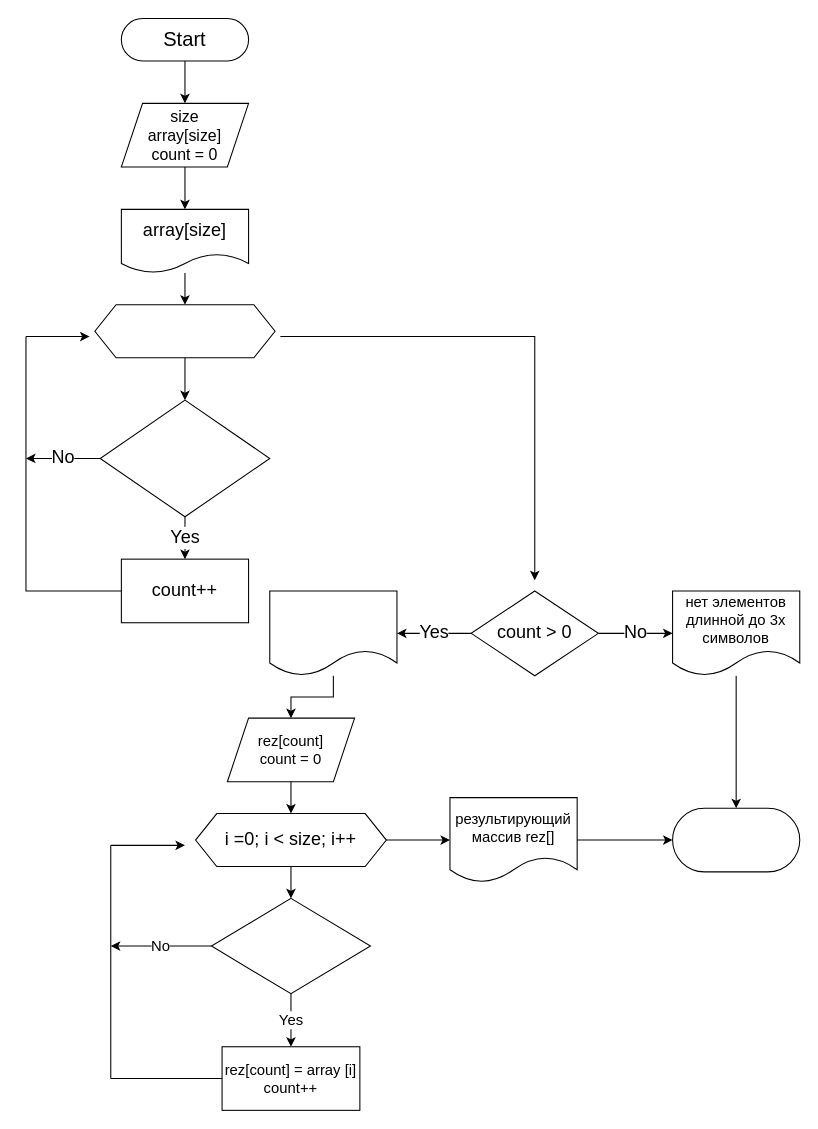
This 818x1129 diagram has some shape labels left out. The shapes that lost their labels are listed below. From the top down, each one's centre as x and y in pixels, then its label:
the point at 184,331: i =0; i <=3; i++
the point at 184,458: array[i].Length < 3
the point at 333,633: count элементов длинной до 3х символов
the point at 736,839: Finish
the point at 290,945: array[i] <= 3
